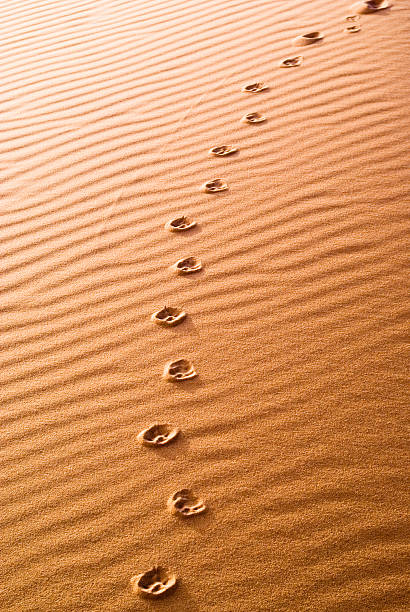animal_footprint: (130, 566, 176, 597), (167, 489, 205, 516), (137, 423, 179, 445), (163, 358, 196, 381), (151, 306, 186, 326), (172, 256, 201, 274), (351, 0, 390, 13), (165, 216, 195, 231), (293, 31, 323, 46), (202, 178, 227, 192), (209, 145, 238, 157), (242, 82, 268, 92), (242, 112, 265, 123), (279, 55, 302, 66), (345, 23, 360, 32), (344, 14, 359, 21)
